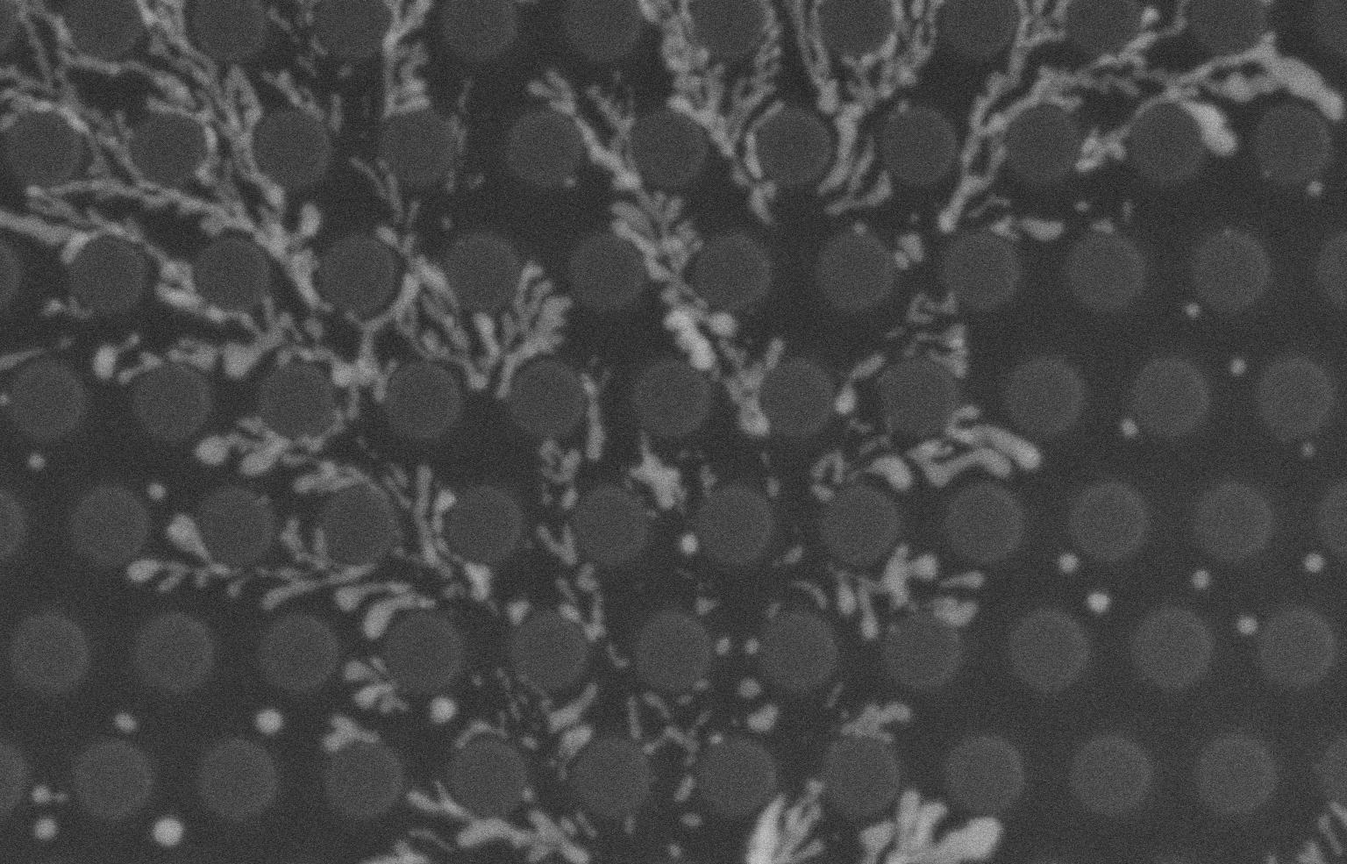Dendrite: (937, 0, 1346, 232), (76, 0, 328, 309), (195, 413, 538, 624), (295, 77, 502, 421), (0, 174, 316, 384), (939, 0, 1186, 232), (581, 92, 745, 375), (127, 518, 435, 643), (788, 0, 942, 192), (938, 0, 1065, 232), (651, 0, 769, 216), (1, 0, 140, 182), (403, 771, 594, 864), (638, 0, 738, 165), (481, 261, 570, 397), (264, 0, 350, 132), (855, 789, 1002, 864), (834, 544, 937, 639), (497, 293, 571, 397), (731, 0, 782, 139), (528, 68, 605, 156), (1075, 101, 1159, 174), (722, 339, 785, 436), (746, 786, 821, 864), (381, 0, 431, 114), (948, 407, 1041, 468), (664, 300, 736, 371), (825, 140, 891, 215), (908, 439, 1009, 486), (629, 438, 686, 509), (343, 657, 409, 714), (645, 713, 713, 766), (745, 104, 783, 198), (497, 668, 552, 729), (904, 324, 968, 376), (1179, 101, 1237, 156), (833, 355, 883, 414), (539, 440, 582, 508), (827, 171, 892, 215), (1217, 19, 1274, 68), (554, 579, 597, 639), (0, 336, 70, 372), (843, 702, 910, 739), (549, 683, 596, 732), (553, 719, 592, 777), (576, 564, 606, 639), (810, 451, 854, 501), (582, 372, 606, 461), (31, 784, 68, 840), (986, 215, 1065, 241), (323, 716, 378, 752), (904, 292, 957, 328), (864, 453, 913, 490), (1316, 801, 1346, 861), (361, 841, 428, 864), (538, 525, 576, 565), (661, 677, 709, 708), (453, 718, 502, 746), (44, 295, 98, 320), (931, 597, 976, 627), (893, 232, 924, 269), (792, 580, 828, 608), (745, 703, 778, 732), (254, 707, 284, 735), (1296, 840, 1329, 864), (153, 818, 182, 845), (858, 435, 887, 460), (430, 696, 456, 723), (908, 557, 937, 581), (773, 544, 803, 566), (627, 698, 643, 739), (940, 572, 981, 588), (641, 693, 667, 718), (1316, 813, 1335, 846), (1088, 213, 1119, 232), (674, 774, 694, 803), (1086, 590, 1110, 614), (608, 641, 629, 668), (113, 712, 137, 733), (738, 676, 760, 697), (1058, 553, 1080, 574), (679, 533, 699, 555), (1238, 614, 1258, 636), (699, 465, 717, 489), (1330, 801, 1346, 827), (695, 596, 717, 614), (1304, 553, 1324, 572), (26, 452, 46, 470), (1120, 418, 1138, 438), (681, 811, 702, 828), (147, 482, 166, 500), (1192, 569, 1209, 589), (1228, 357, 1245, 375), (764, 600, 781, 618), (1306, 181, 1323, 198), (716, 636, 731, 654), (603, 158, 620, 173), (1184, 303, 1201, 318), (1301, 441, 1316, 458), (1120, 200, 1132, 221), (766, 477, 779, 496), (666, 842, 681, 858), (623, 816, 636, 834), (745, 638, 759, 654), (708, 731, 725, 744), (1074, 200, 1089, 214), (0, 392, 8, 407), (835, 469, 837, 472), (570, 480, 571, 481), (1310, 859, 1310, 860)
